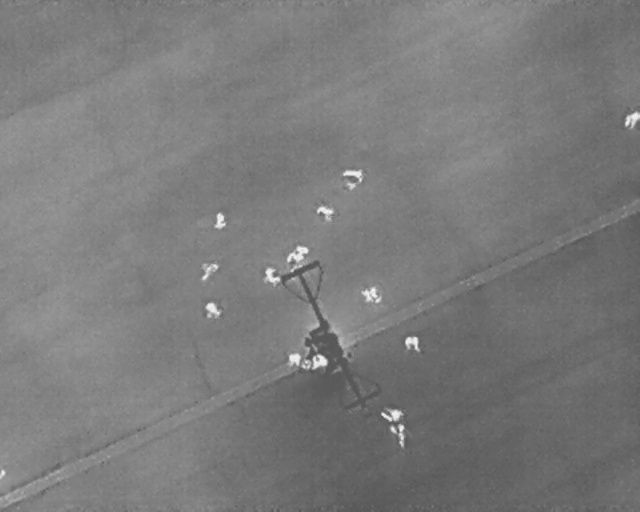Person: (284, 241, 310, 268), (194, 256, 219, 284), (390, 423, 406, 450), (263, 266, 281, 287), (360, 287, 383, 303), (380, 406, 403, 422), (342, 166, 363, 182), (404, 335, 421, 354), (204, 301, 221, 319), (315, 204, 334, 220), (624, 109, 639, 129), (312, 355, 328, 369), (214, 212, 226, 230), (287, 352, 301, 366)
